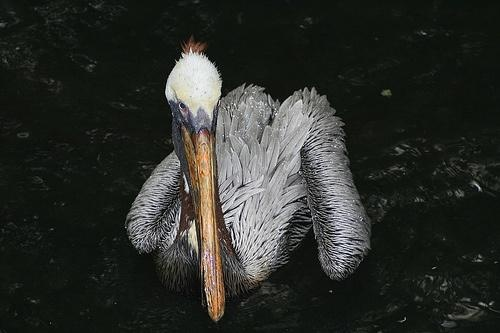bird: (124, 38, 376, 328)
